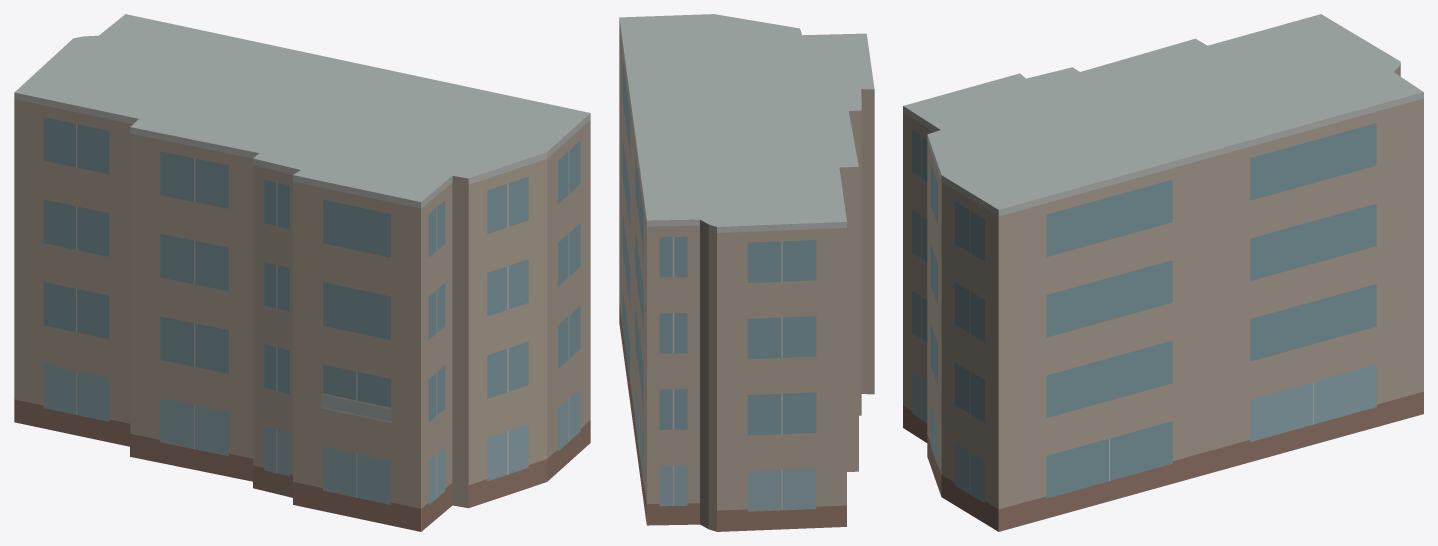
Rendered from survey-upis-32602492.glb.
The picture shows the model from 3 angles, left to right: view 1: azimuth 30°, elevation 25°; view 2: azimuth 150°, elevation 25°; view 3: azimuth 270°, elevation 25°; orthographic projection. The views are drawn at different scales.
Visible parts, largest first — view 1: survey-upis-32602492.tmp; view 2: survey-upis-32602492.tmp; view 3: survey-upis-32602492.tmp.
Part boxes in pixels (left/top/right/bottom): survey-upis-32602492.tmp: left=14, top=14, right=590, bottom=531; survey-upis-32602492.tmp: left=619, top=14, right=874, bottom=531; survey-upis-32602492.tmp: left=903, top=14, right=1423, bottom=531.
Bounding box in the file's own units: 15.93 × 12.2 × 17.89.
